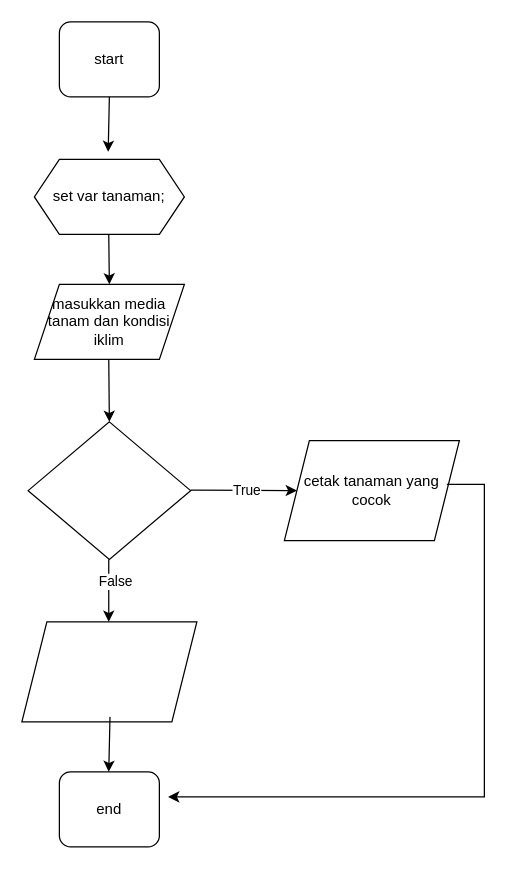
Image size: 516x869. Some labels were removed from this diagram. The shapes that lost their labels are listed below. From the top down, each one's box as (x1, y1, x2, y2) in pixels, then its label:
(27, 421, 191, 559): apakah media dan iklim ada di var tanaman
(21, 621, 197, 722): cetak tanaman tidak terdaftar
